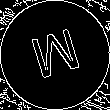M_S: (26, 24, 84, 86)
